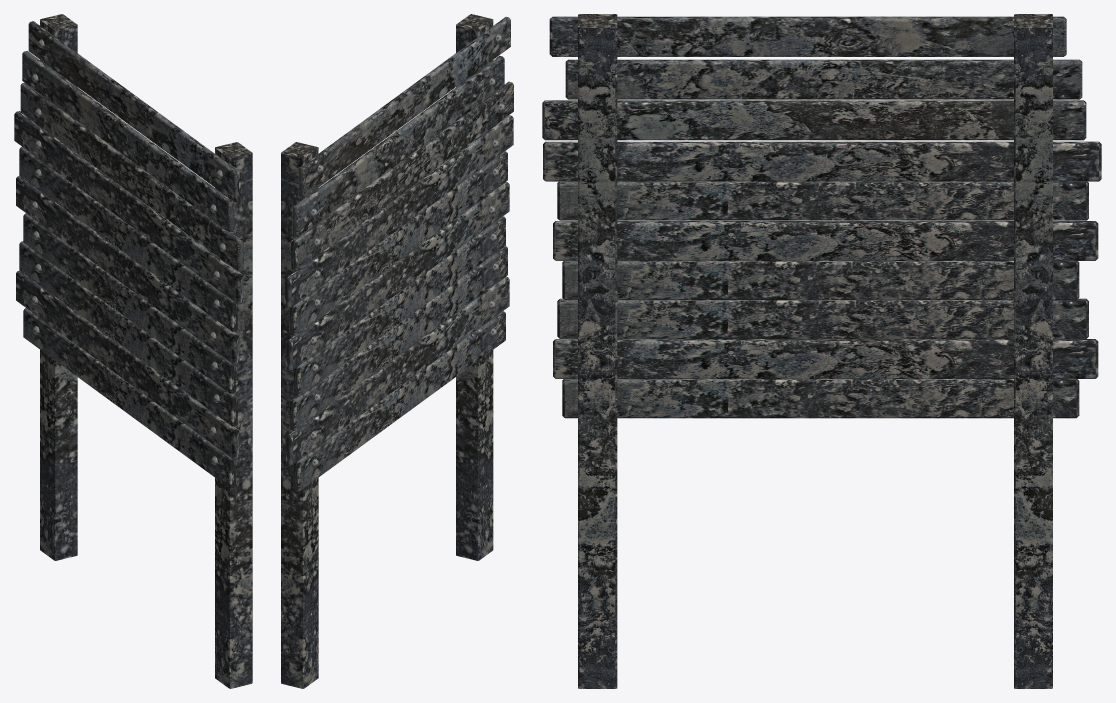
File: SM_stand_01.fbx
3 renders of one model, left to right at view 1: azimuth 30°, elevation 25°; view 2: azimuth 150°, elevation 25°; view 3: azimuth 270°, elevation 25°, orthographic. The views are drawn at different scales.
Parts seen in each view (by area): view 1: SM_stand_01_LOD0; view 2: SM_stand_01_LOD0; view 3: SM_stand_01_LOD0.
Part boxes in pixels (x1,y1,x2,y2): SM_stand_01_LOD0: [14, 14, 252, 688]; SM_stand_01_LOD0: [281, 14, 513, 688]; SM_stand_01_LOD0: [542, 14, 1101, 688].
Size of the model in its own units: 13.67 by 159 by 207.
